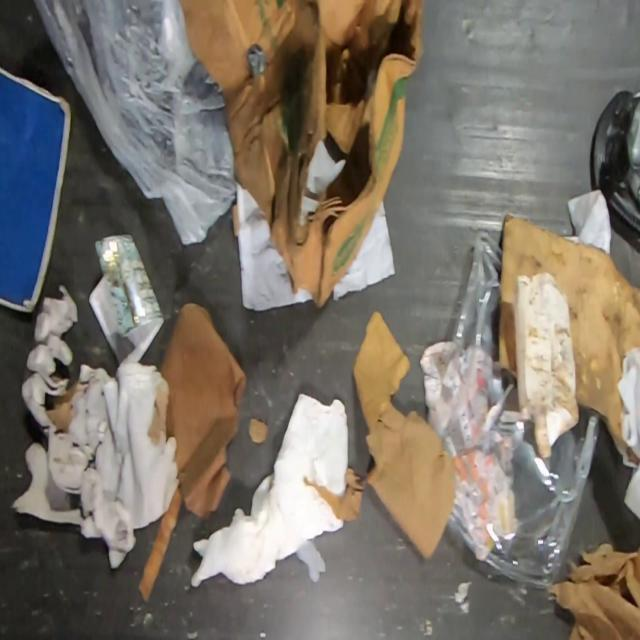cardboard: (178, 0, 424, 312), (45, 302, 247, 604), (302, 310, 455, 562), (498, 214, 640, 440), (0, 63, 73, 321), (246, 416, 270, 444)
rigid_plastic: (427, 228, 600, 596), (591, 88, 640, 254)
soft_plastic: (30, 0, 237, 247)
